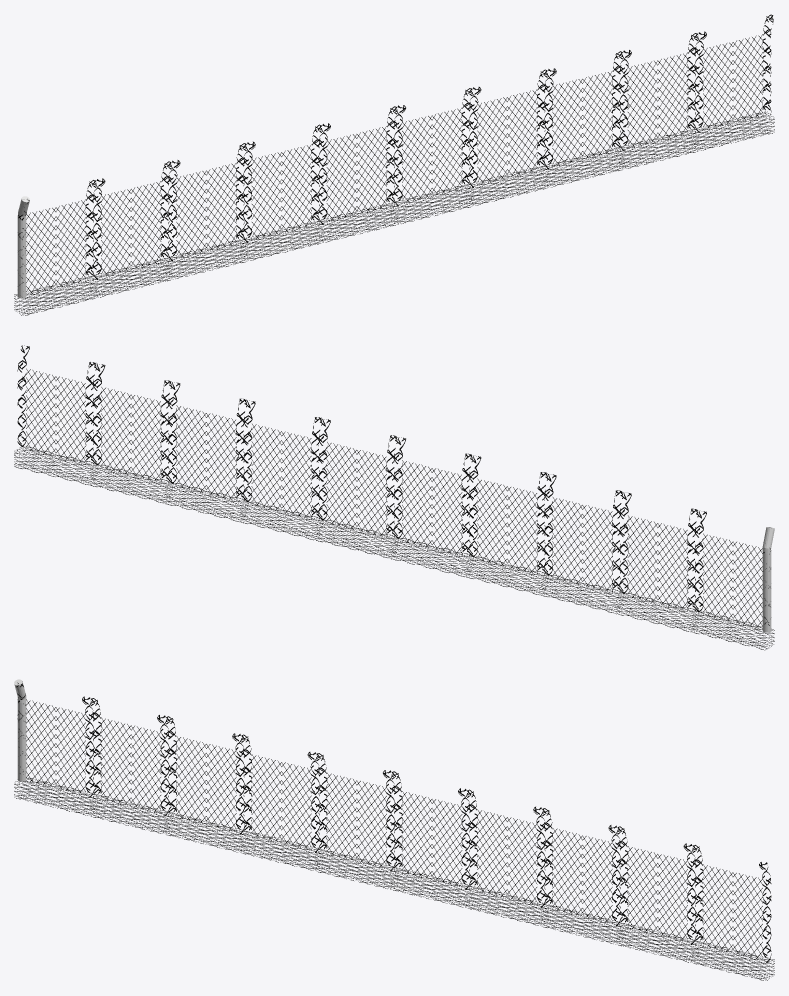
File: fence.fbx
3 renders of one model, top to bottom at view 1: azimuth 30°, elevation 25°; view 2: azimuth 150°, elevation 25°; view 3: azimuth 330°, elevation 25°, orthographic.
Parts seen in each view (by area): view 1: 網, 円柱.001; view 2: 網, 円柱.001; view 3: 網, 円柱.001.
Part boxes in pixels (bbox=[...]): 網: bbox=[14, 14, 774, 315]; 円柱.001: bbox=[17, 196, 29, 298]; 網: bbox=[14, 345, 774, 650]; 円柱.001: bbox=[762, 527, 774, 632]; 網: bbox=[14, 681, 774, 980]; 円柱.001: bbox=[14, 679, 26, 781].
Size of the model in its own units: 2000 by 298 by 46.49.
